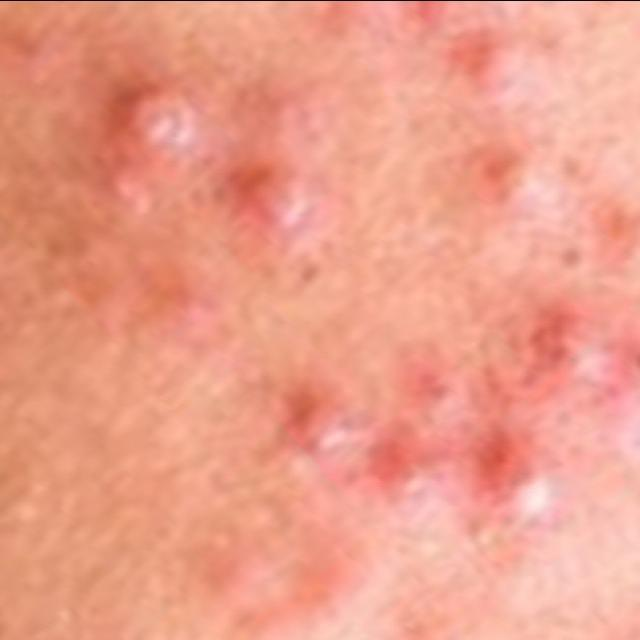acne: (269, 344, 555, 552), (466, 152, 640, 286), (232, 45, 336, 253), (557, 292, 640, 496), (95, 46, 201, 188), (437, 39, 551, 134), (342, 0, 528, 40)
